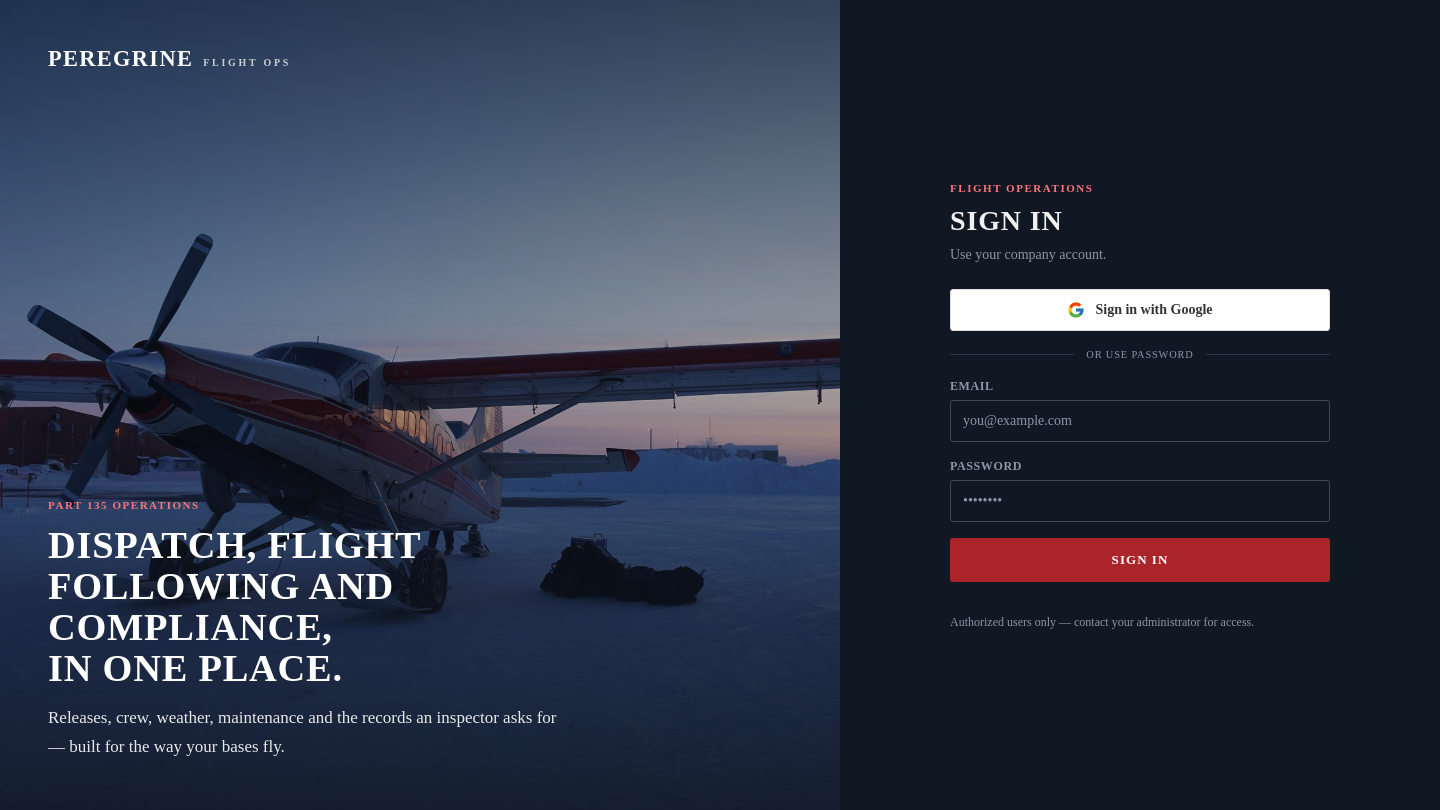
Test case: LoginForm › hides the SSO panel when the tenant has no active providers
Expected: the button "Sign in with Google" is shown, top-left (950, 289), bottom-right (1330, 331)
Type "pilot@acme.local" into the field labelled "Email" at (1140, 421), box top-left (950, 400), bottom-right (1330, 442)
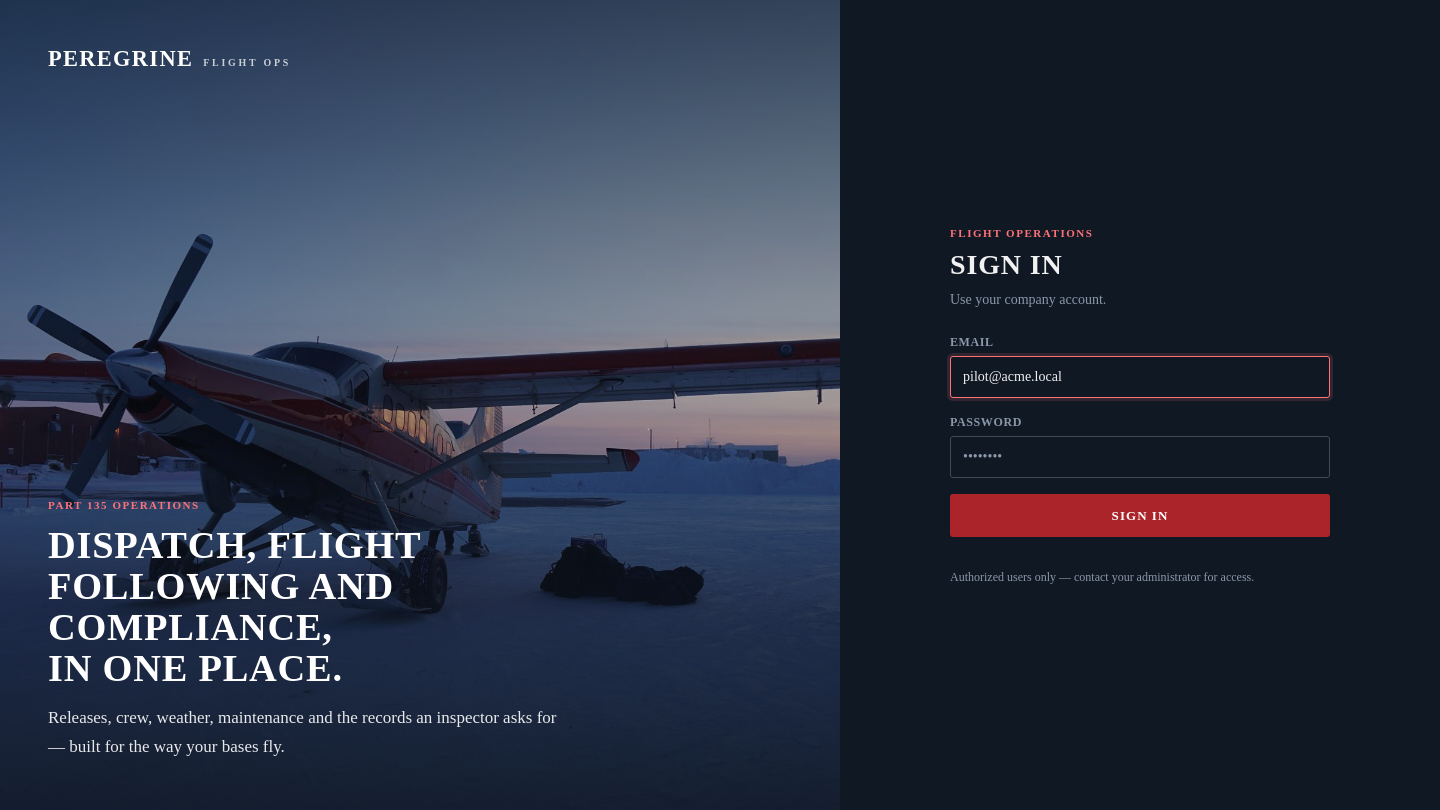
Result: the button "Sign in with Google" is gone
Result: the text "or use password" is gone
